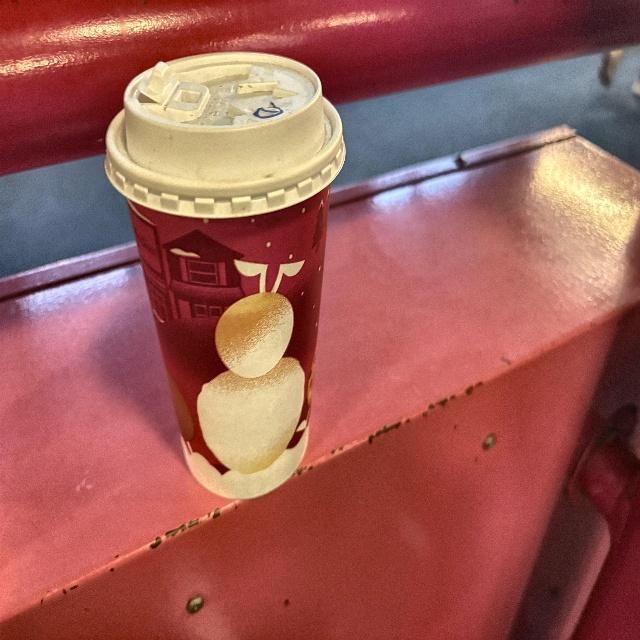timmies: (101, 45, 347, 506)
